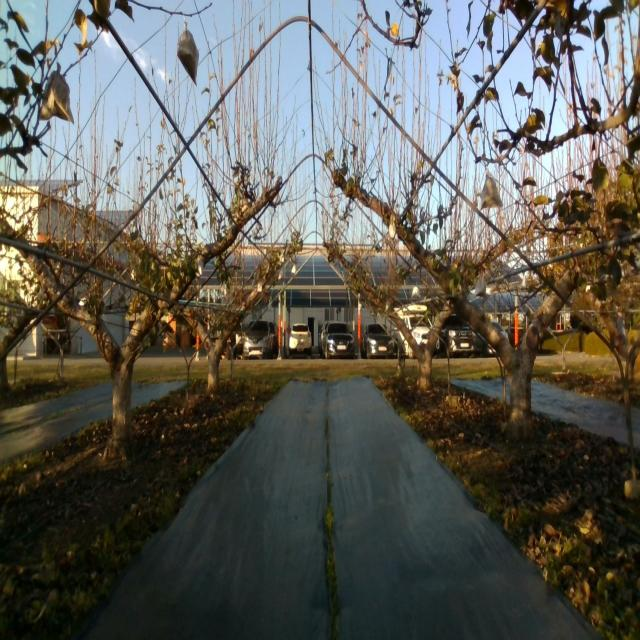pearbags: (40, 71, 74, 124), (177, 29, 199, 86), (480, 177, 502, 210), (475, 277, 487, 296)
